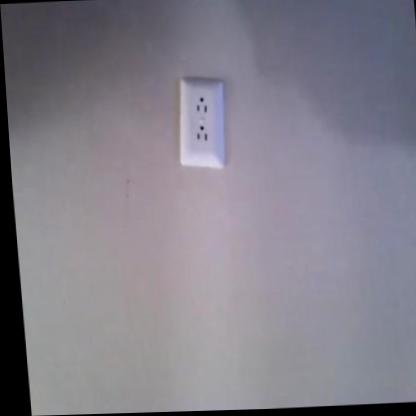OUTLET: (175, 78, 227, 165)
